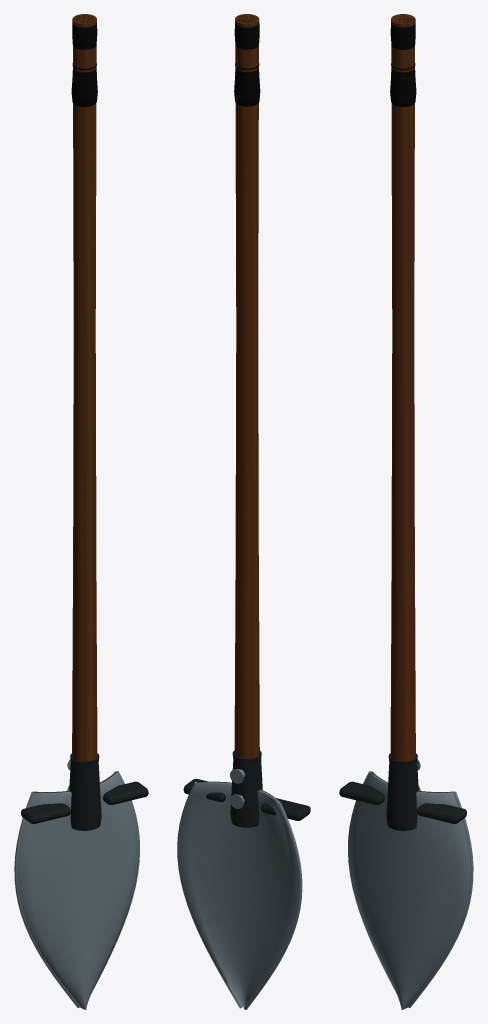
The model's file is RoundPointShovel.gltf.
3 views of the same model, side by side, from view 1: azimuth 30°, elevation 25°; view 2: azimuth 150°, elevation 25°; view 3: azimuth 330°, elevation 25° (orthographic).
Visible parts, largest first — view 1: RoundPointShovel__Body; view 2: RoundPointShovel__Body; view 3: RoundPointShovel__Body.
Boxes of the visible parts, x1,y1,x2,y2 form: RoundPointShovel__Body: (14, 14, 148, 1009); RoundPointShovel__Body: (177, 14, 310, 1009); RoundPointShovel__Body: (339, 14, 473, 1009).
Bounding box in the file's own units: 0.1904 × 1.44 × 0.0503.
1 material, 1 textured.
